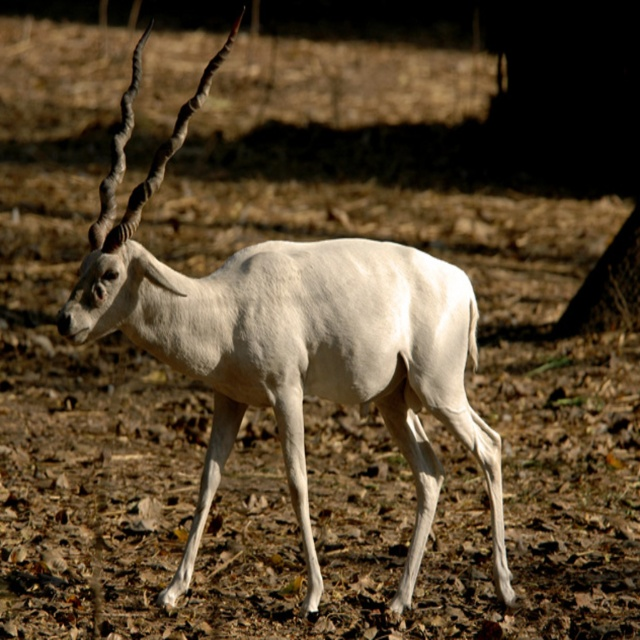Deer: (56, 4, 517, 624)
